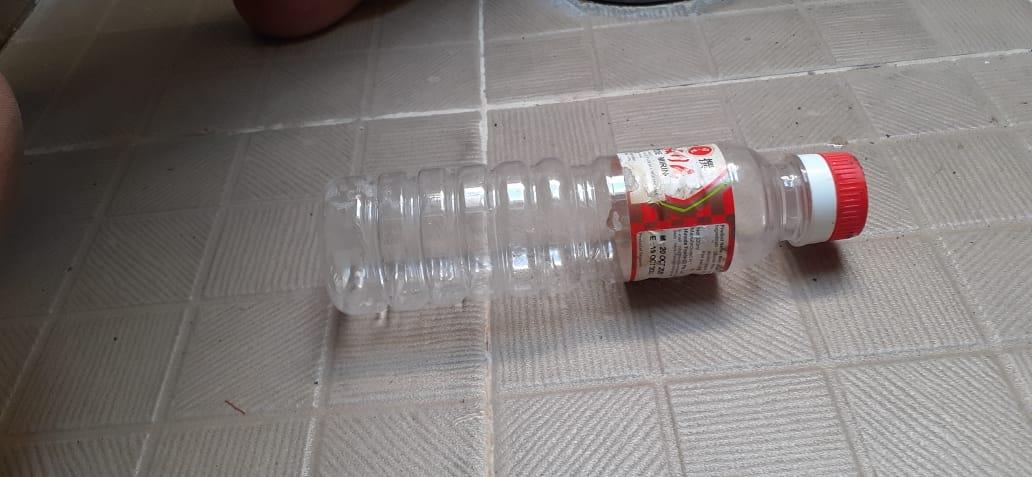Plastik: (322, 137, 868, 317)
